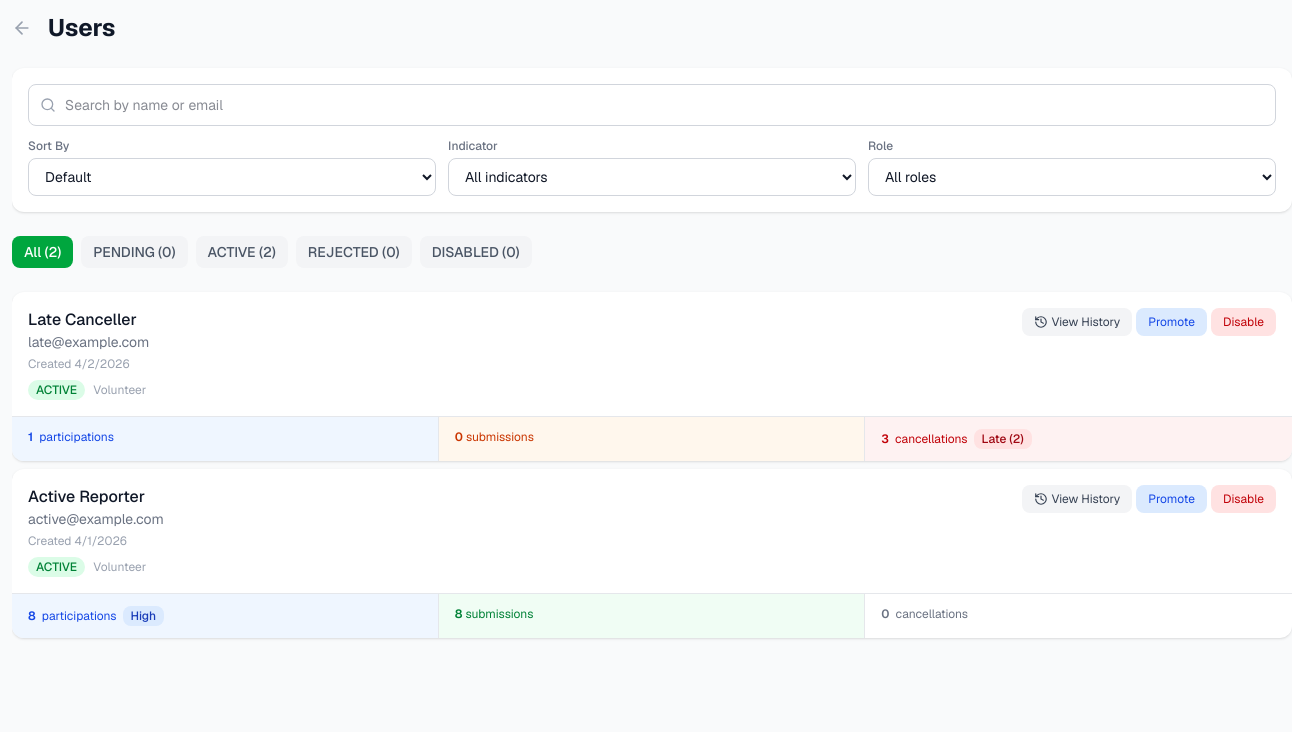
Scenario: UsersClient admin indicators › filters by high participation or late cancellation indicators
Step 1. Select "High participation" in the dropdown labelled "Indicator" → (652, 177), box [448,158,856,196]
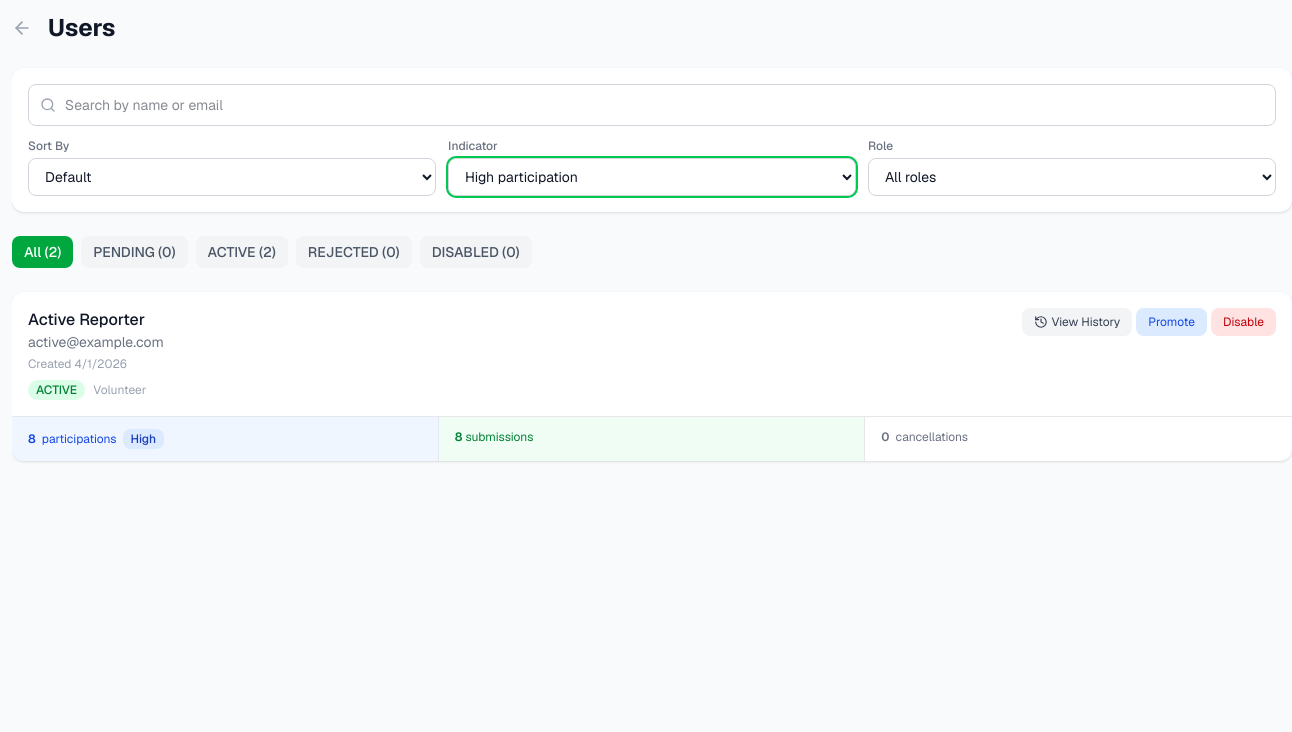
Expected: the text "Active Reporter" is shown, [28,308,164,332]
Expected: the text "Late Canceller" is gone
Step 2. Select "Late cancellation" in the dropdown labelled "Indicator" → (652, 177), box [448,158,856,196]
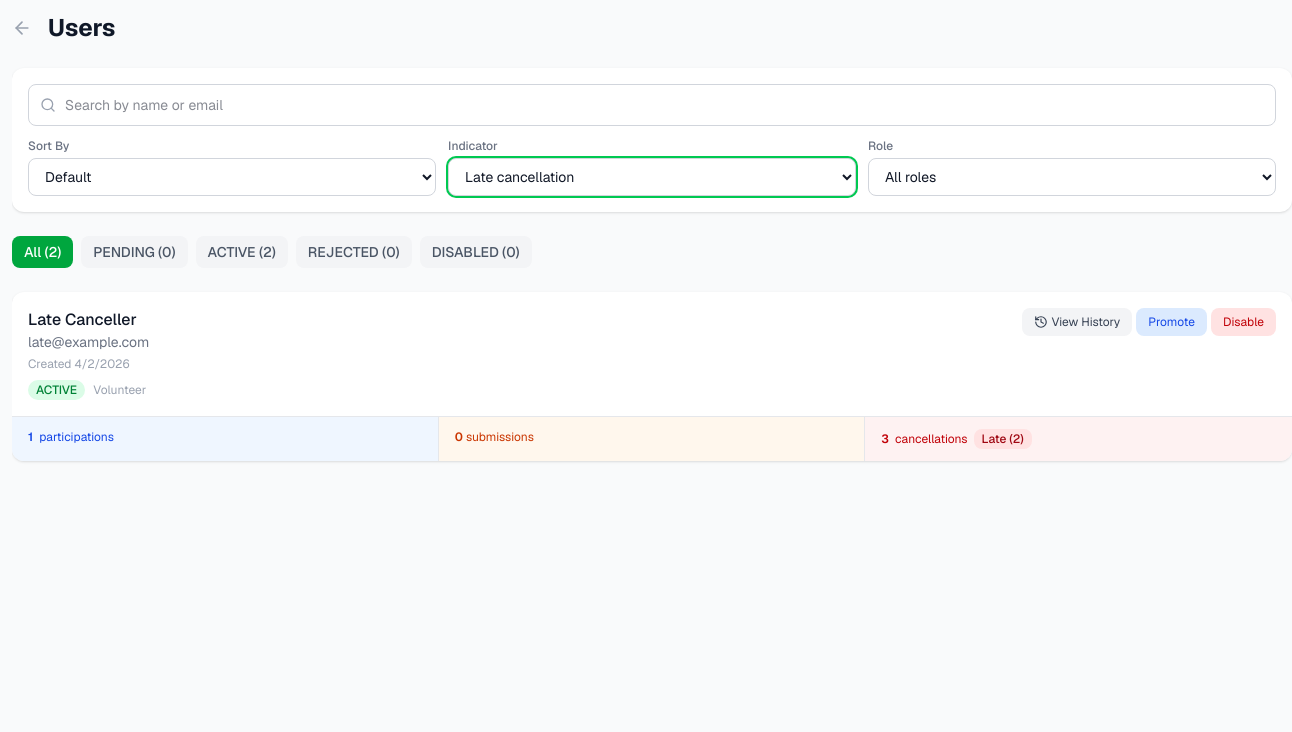
Expected: the text "Active Reporter" is gone
Expected: the text "Late Canceller" is shown, [28,308,149,332]
